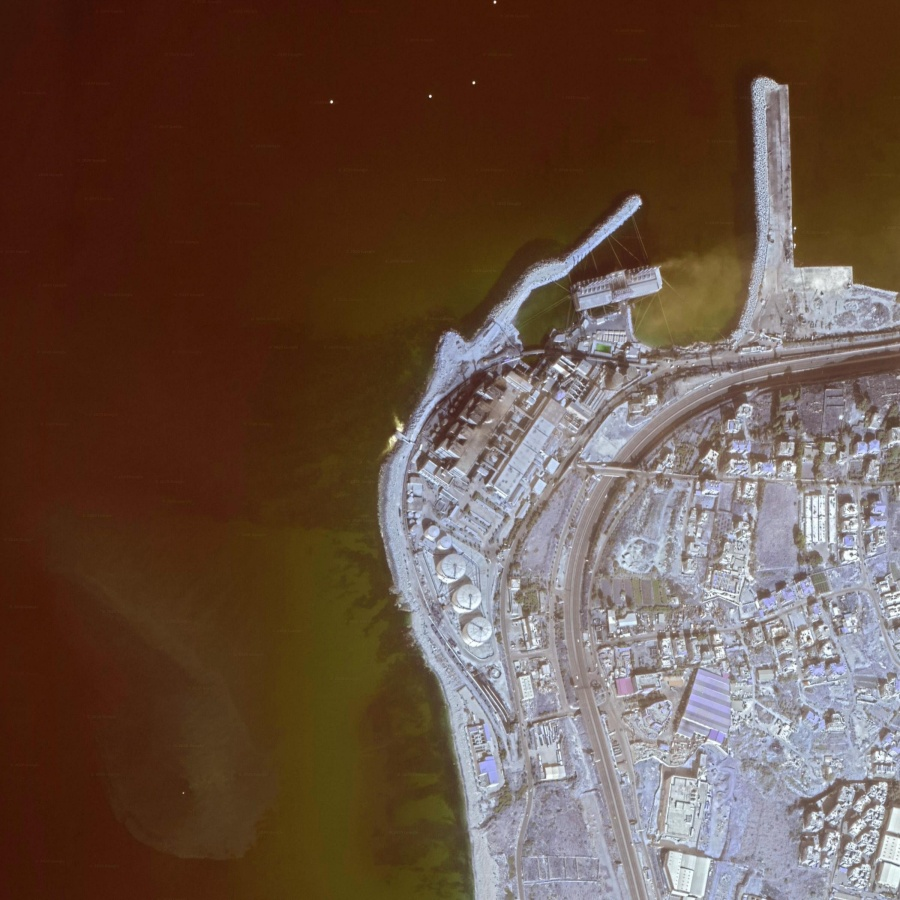PowerPlant: (370, 253, 666, 651)
